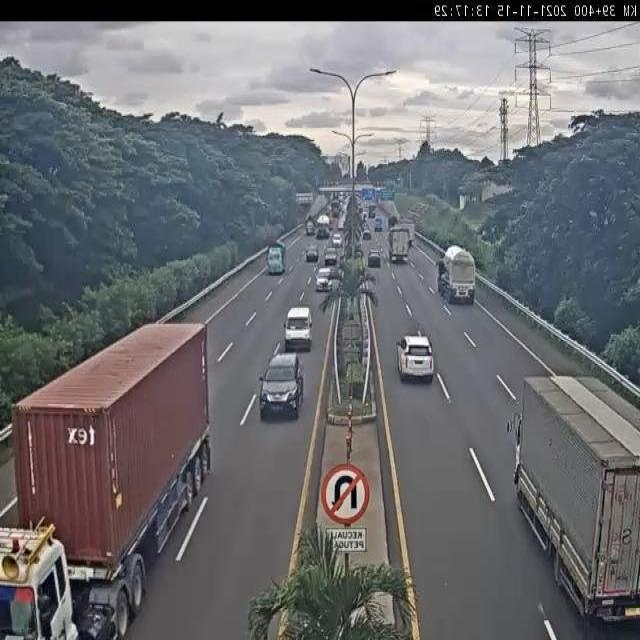Car: (259, 353, 305, 420), (396, 335, 434, 381), (316, 267, 332, 291), (367, 249, 381, 267), (324, 247, 338, 265), (306, 245, 320, 262)
Truck: (0, 315, 210, 640), (513, 368, 640, 625), (436, 245, 476, 304), (389, 230, 411, 263), (265, 242, 286, 276)
Van: (284, 307, 314, 354)
